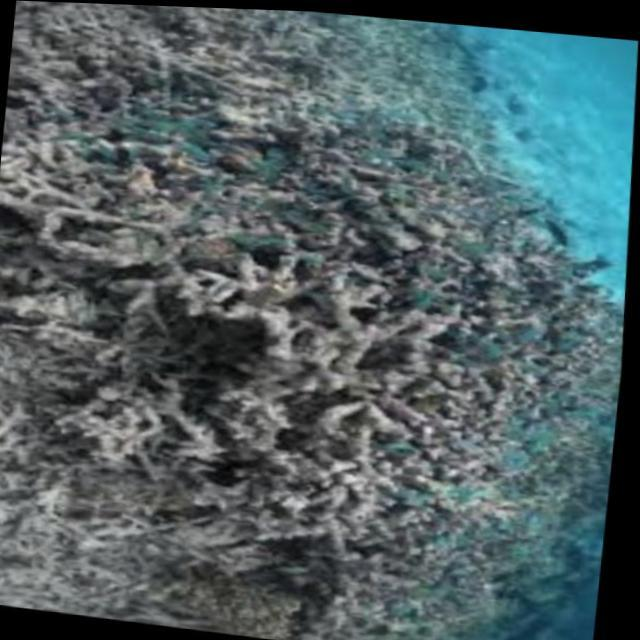Dead Coral: (0, 0, 569, 640), (127, 42, 590, 629)
